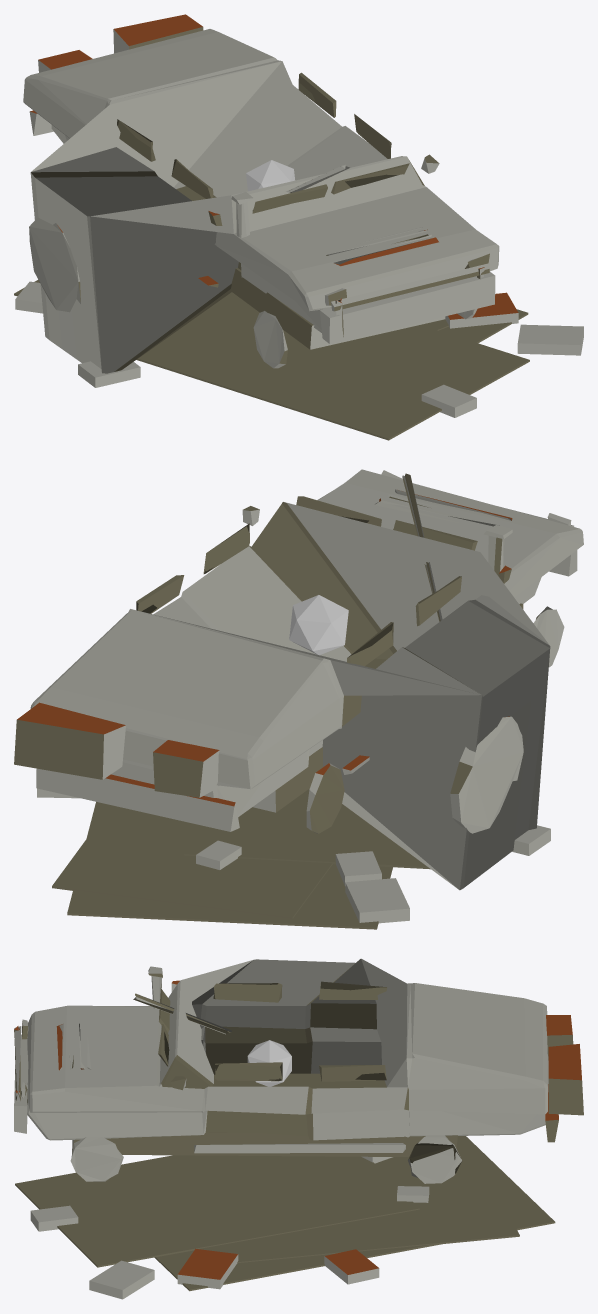
File: SM_RestosVamtac_v3_LOD0.fbx
3 views of the same model, one above another, from view 1: azimuth 30°, elevation 25°; view 2: azimuth 150°, elevation 25°; view 3: azimuth 270°, elevation 25° (orthographic). The views are drawn at different scales.
Parts seen in each view (by area): view 1: SM_bloques.restos_vamtac_v3_LOD0, Humo; view 2: SM_bloques.restos_vamtac_v3_LOD0, Humo; view 3: SM_bloques.restos_vamtac_v3_LOD0, Humo.
Part boxes in pixels (x1,y1,x2,y2): SM_bloques.restos_vamtac_v3_LOD0: [14, 14, 583, 440]; Humo: [246, 160, 295, 191]; SM_bloques.restos_vamtac_v3_LOD0: [14, 469, 583, 929]; Humo: [289, 595, 348, 655]; SM_bloques.restos_vamtac_v3_LOD0: [14, 958, 583, 1299]; Humo: [247, 1040, 291, 1086].
Size of the model in its own units: 5.08 by 2.57 by 6.56.
